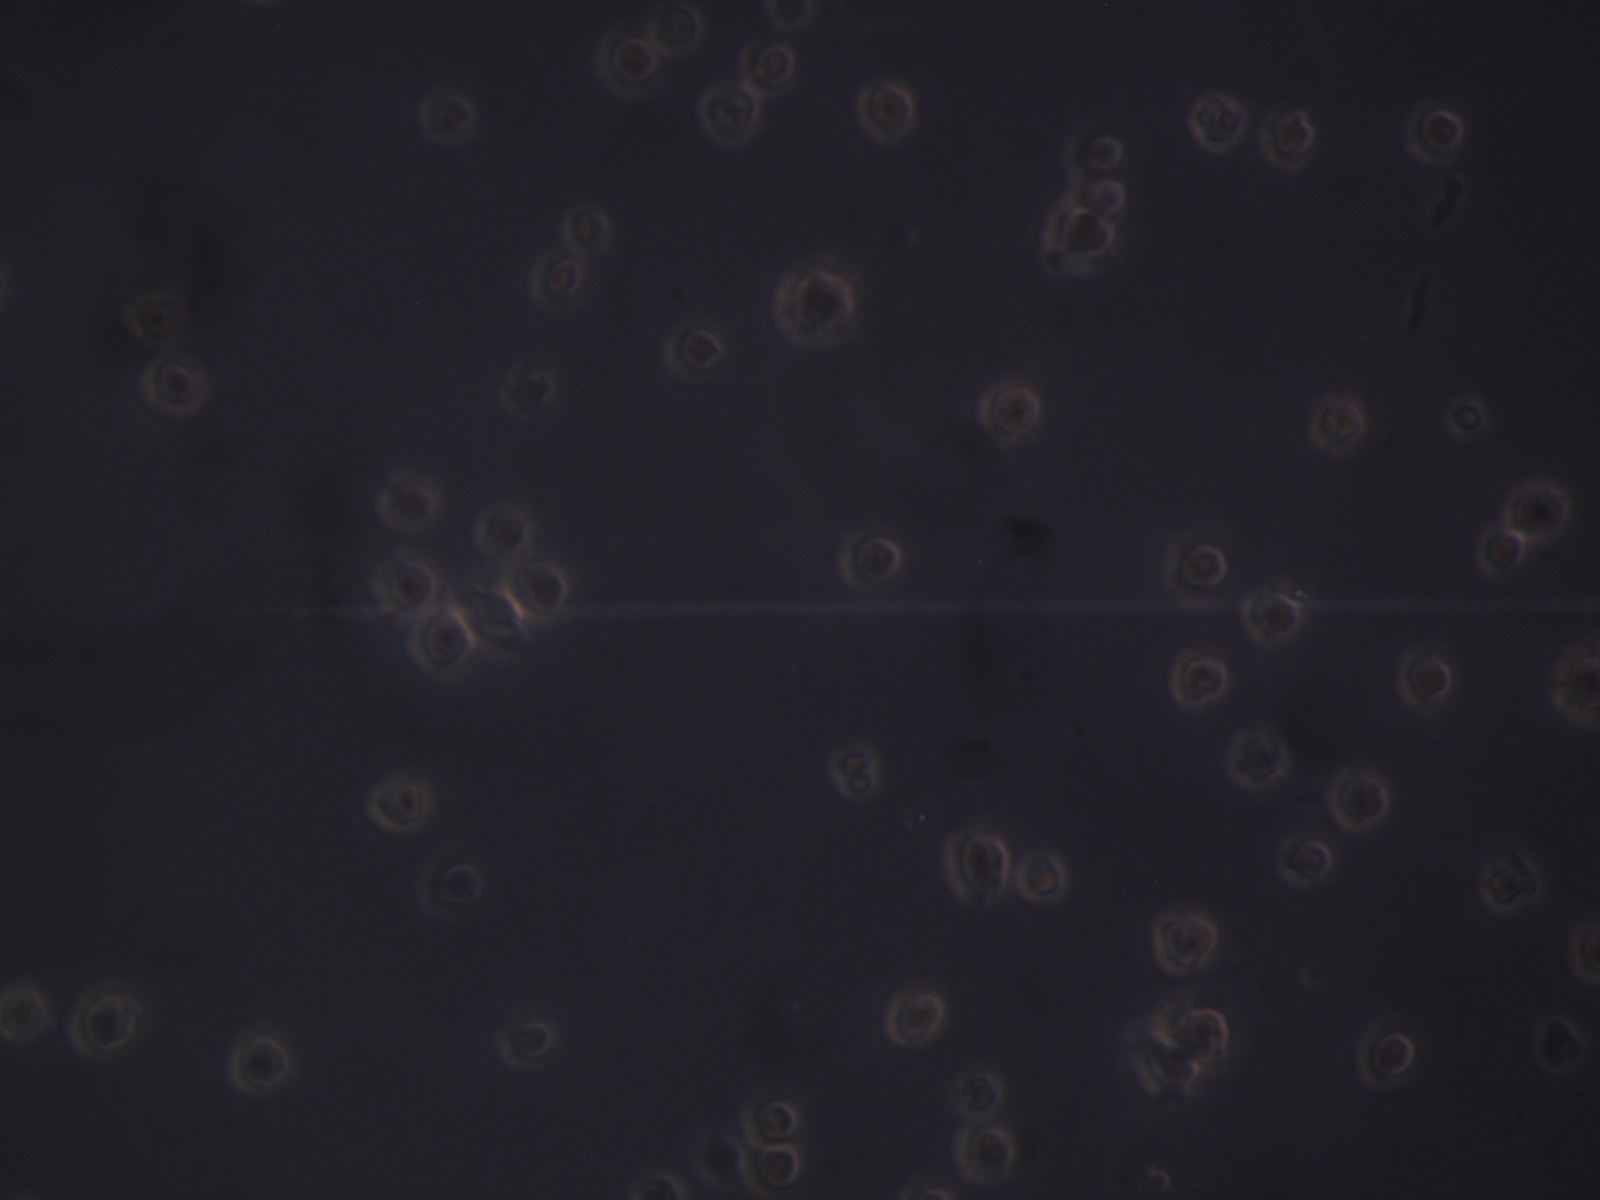hemo: (774, 268, 858, 349), (1043, 198, 1115, 280), (404, 604, 475, 684), (367, 546, 438, 624), (1162, 524, 1226, 610), (942, 824, 1009, 903), (226, 1025, 295, 1094), (588, 29, 659, 95), (66, 993, 137, 1058), (139, 352, 210, 416), (417, 851, 485, 916), (1151, 910, 1218, 976), (460, 580, 525, 645), (1356, 1020, 1416, 1090), (362, 773, 433, 832), (500, 558, 569, 619), (837, 526, 902, 589), (374, 471, 445, 529), (530, 250, 592, 313), (1483, 850, 1545, 911), (700, 81, 760, 145), (980, 383, 1042, 444), (1506, 482, 1569, 541), (1393, 649, 1453, 712), (954, 1123, 1017, 1182), (1548, 655, 1600, 727), (1328, 770, 1390, 829), (1238, 587, 1303, 644), (881, 989, 945, 1046), (1230, 726, 1288, 788), (859, 83, 917, 145), (665, 316, 724, 376), (1262, 108, 1317, 173), (1063, 118, 1121, 178), (1409, 102, 1461, 166), (740, 39, 797, 97), (1309, 397, 1366, 456), (1168, 650, 1228, 706), (1065, 171, 1130, 222), (1189, 95, 1246, 153), (1170, 1008, 1230, 1064), (740, 1139, 801, 1192), (420, 92, 479, 145), (475, 507, 532, 561), (561, 200, 615, 257), (1277, 831, 1330, 887), (740, 1092, 799, 1142), (1477, 523, 1528, 579), (500, 1018, 551, 1074), (1015, 850, 1068, 901), (949, 1071, 1002, 1123), (649, 5, 702, 55), (123, 295, 178, 344), (505, 364, 549, 418), (1, 988, 44, 1041), (632, 1174, 690, 1200), (763, 1, 816, 30), (1448, 398, 1487, 437)
